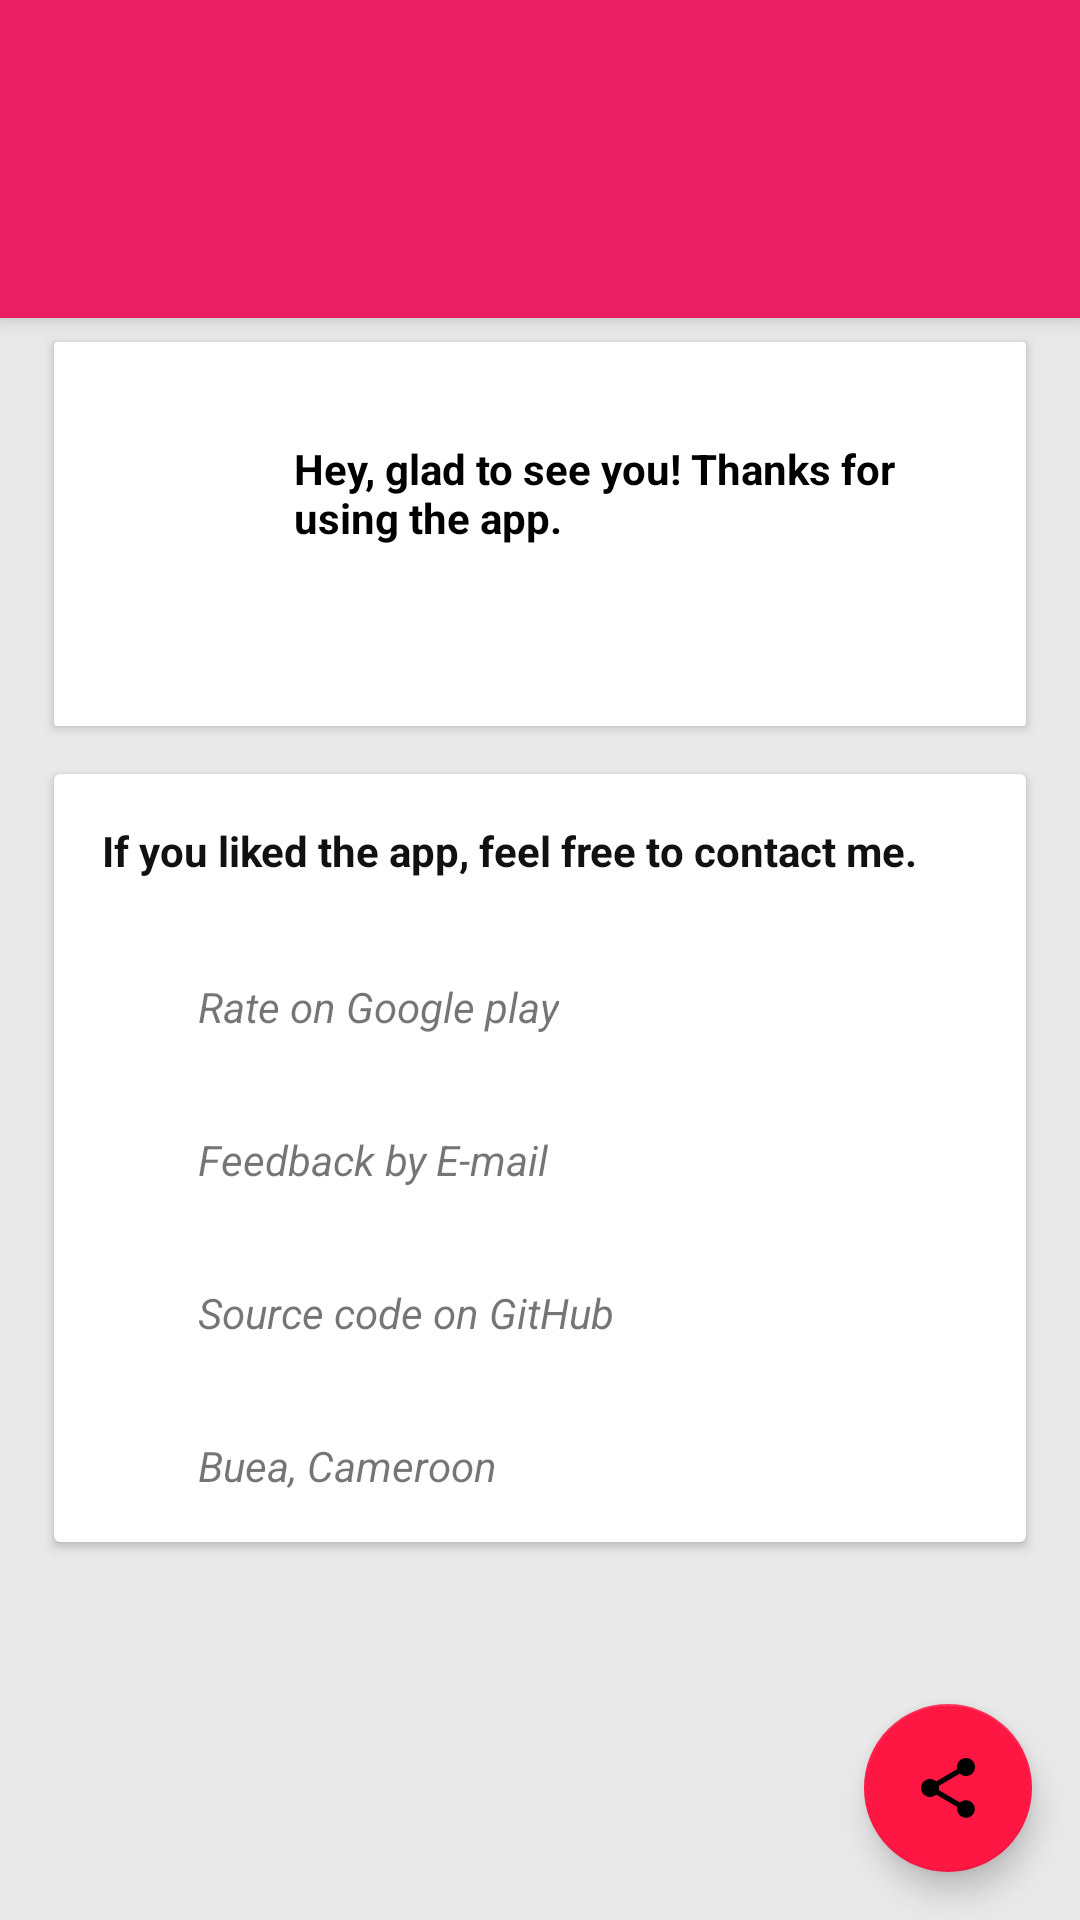

Screen size 1080px x 1920px. Icon name, then its center in pixels as [x,y]:
share: [948,1788]
